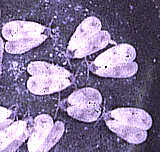whitefly: (97, 104, 153, 146), (62, 15, 110, 61), (24, 59, 80, 97), (84, 43, 138, 82), (1, 20, 58, 55), (55, 86, 103, 123), (26, 110, 65, 152), (1, 120, 31, 150)
